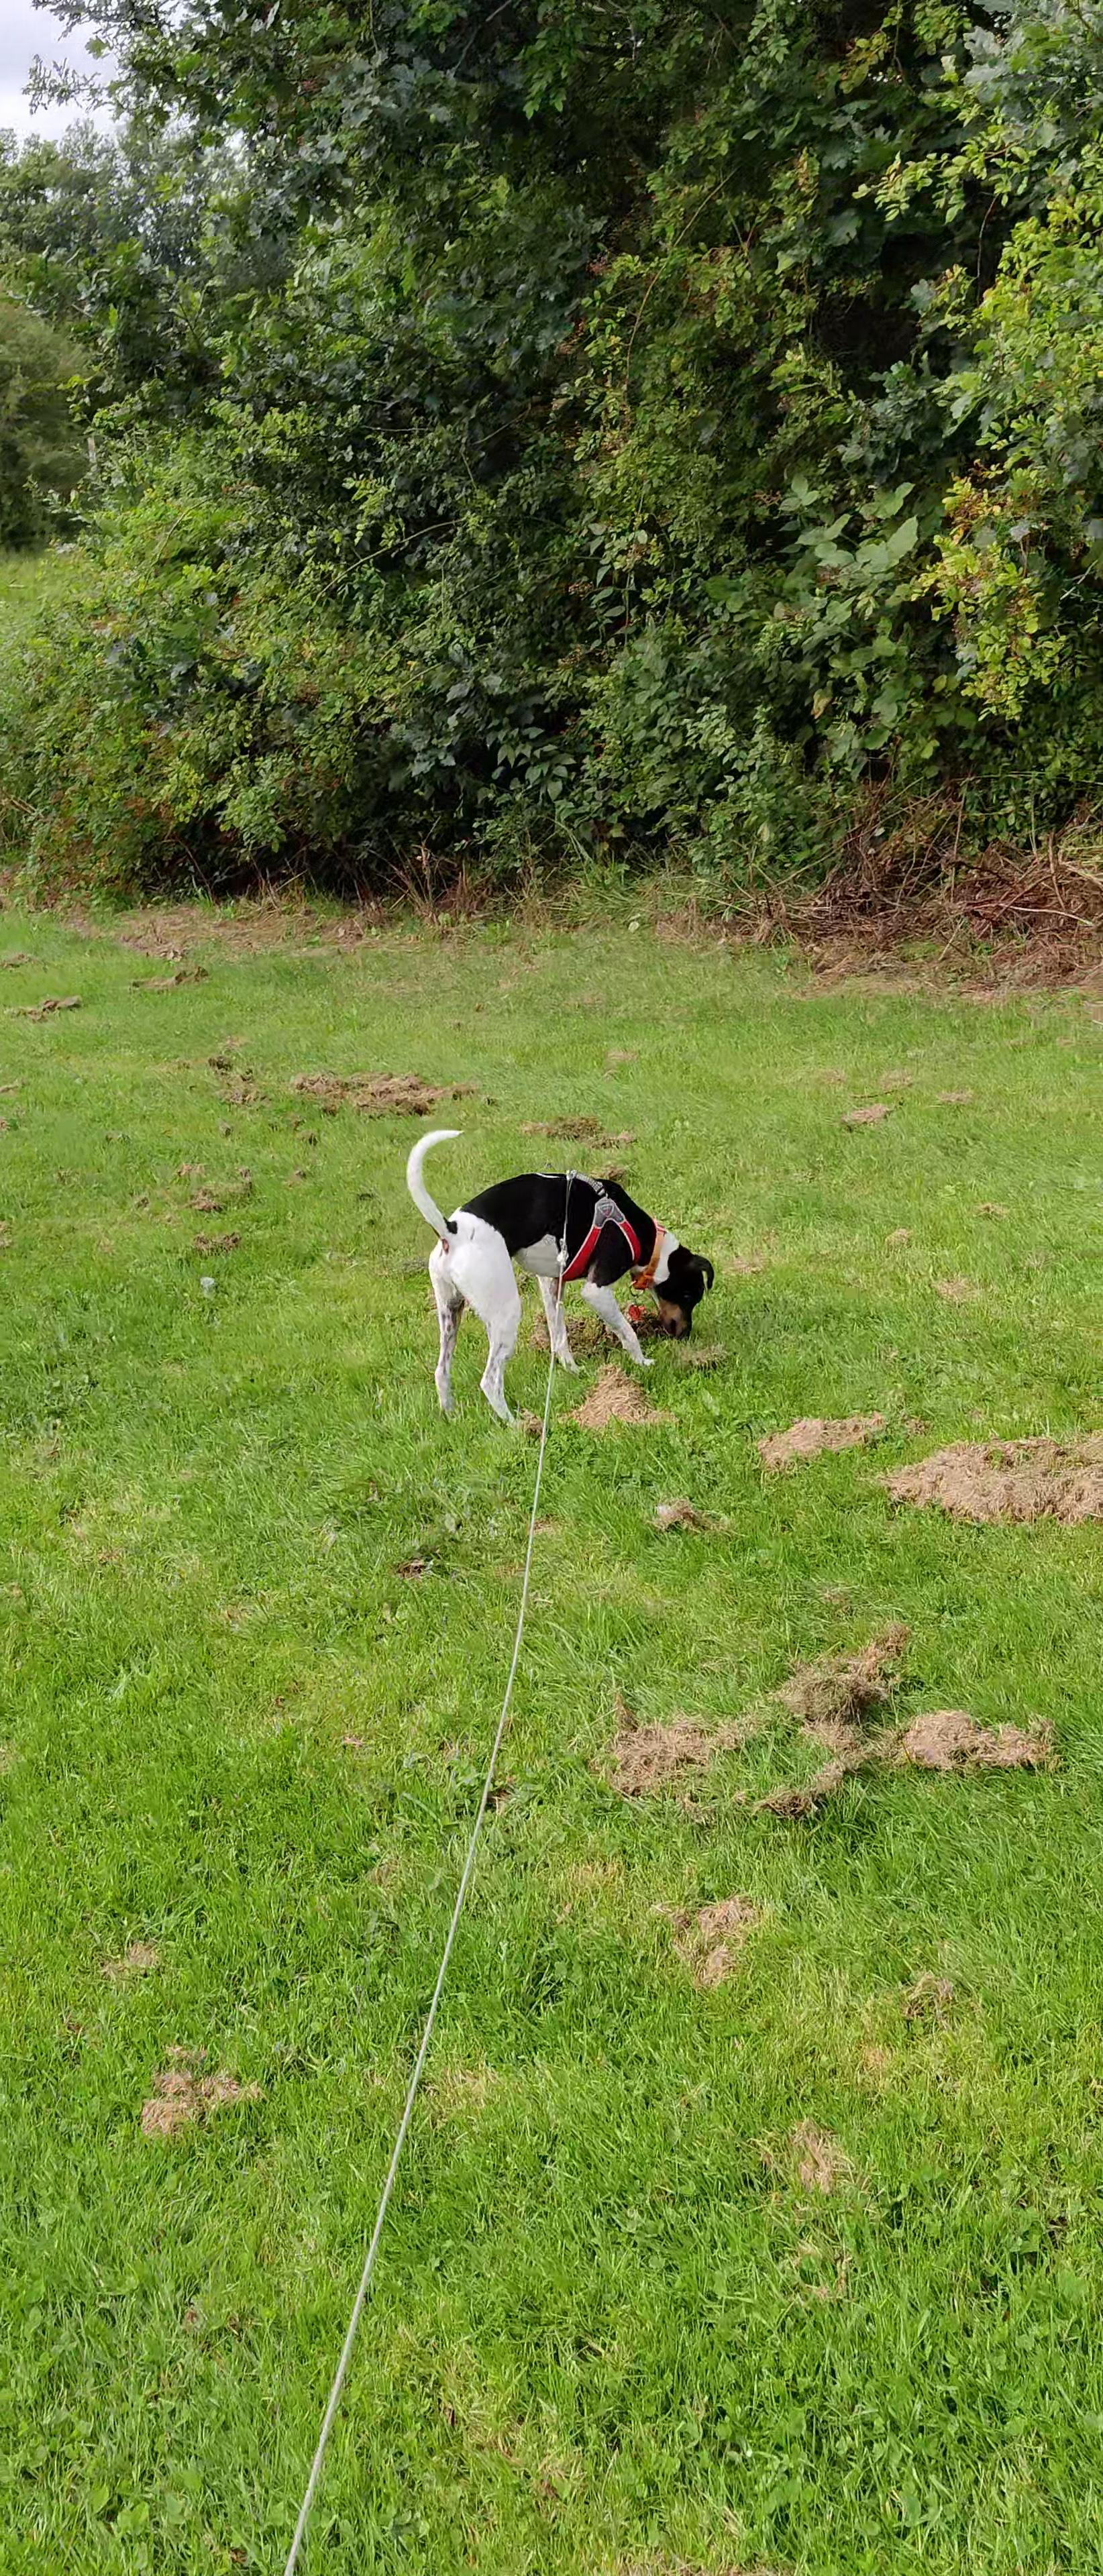Dog: (395, 1127, 730, 1441)
